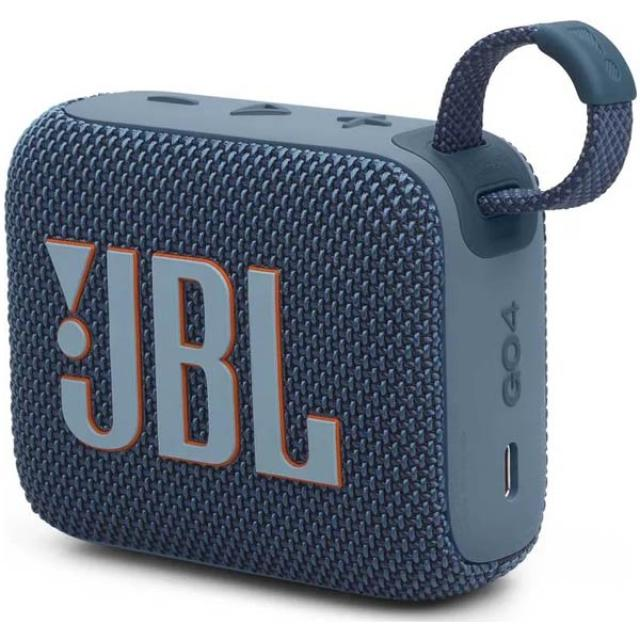column JBL: (5, 93, 545, 601)
